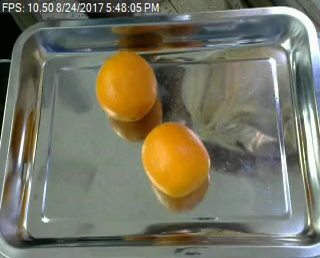Orange: (140, 121, 211, 198), (94, 50, 158, 121)
